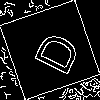D: (25, 25, 82, 78)
